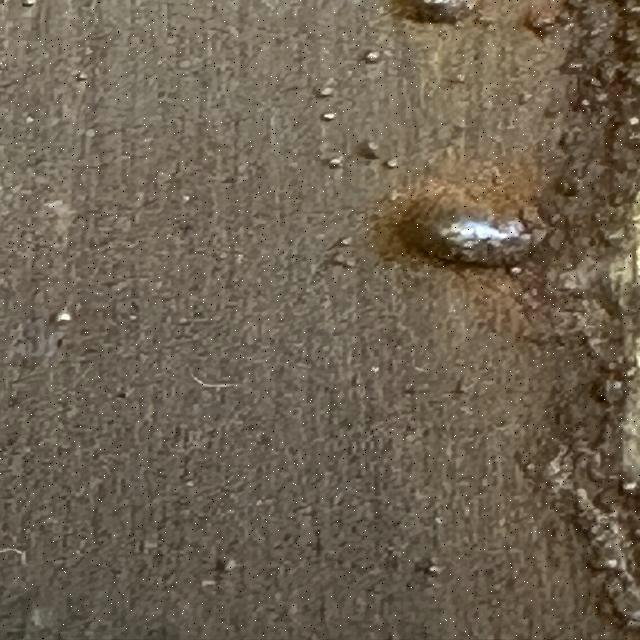Spatters: (621, 482, 640, 496)
